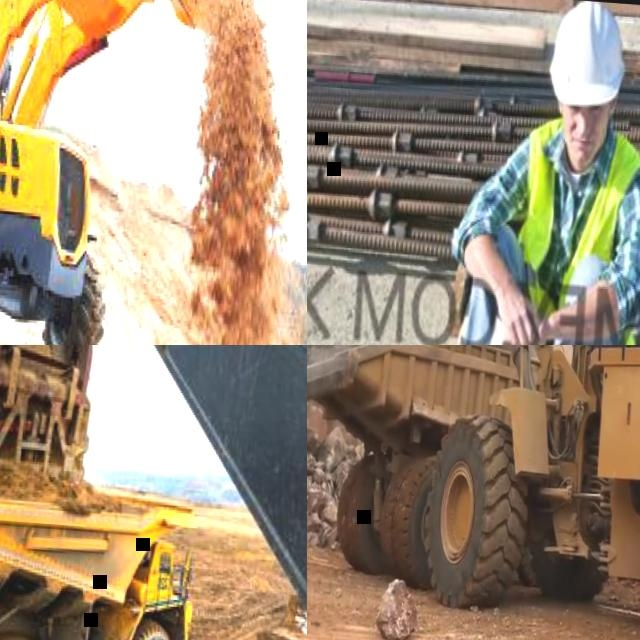Hardhat: (545, 0, 631, 112)
NO-Mask: (560, 126, 602, 168)
Person: (428, 0, 640, 345)
Safety Vest: (505, 115, 640, 345)
machinery: (0, 0, 279, 345), (0, 345, 307, 640), (344, 345, 640, 640), (307, 345, 538, 598), (0, 460, 203, 640)
